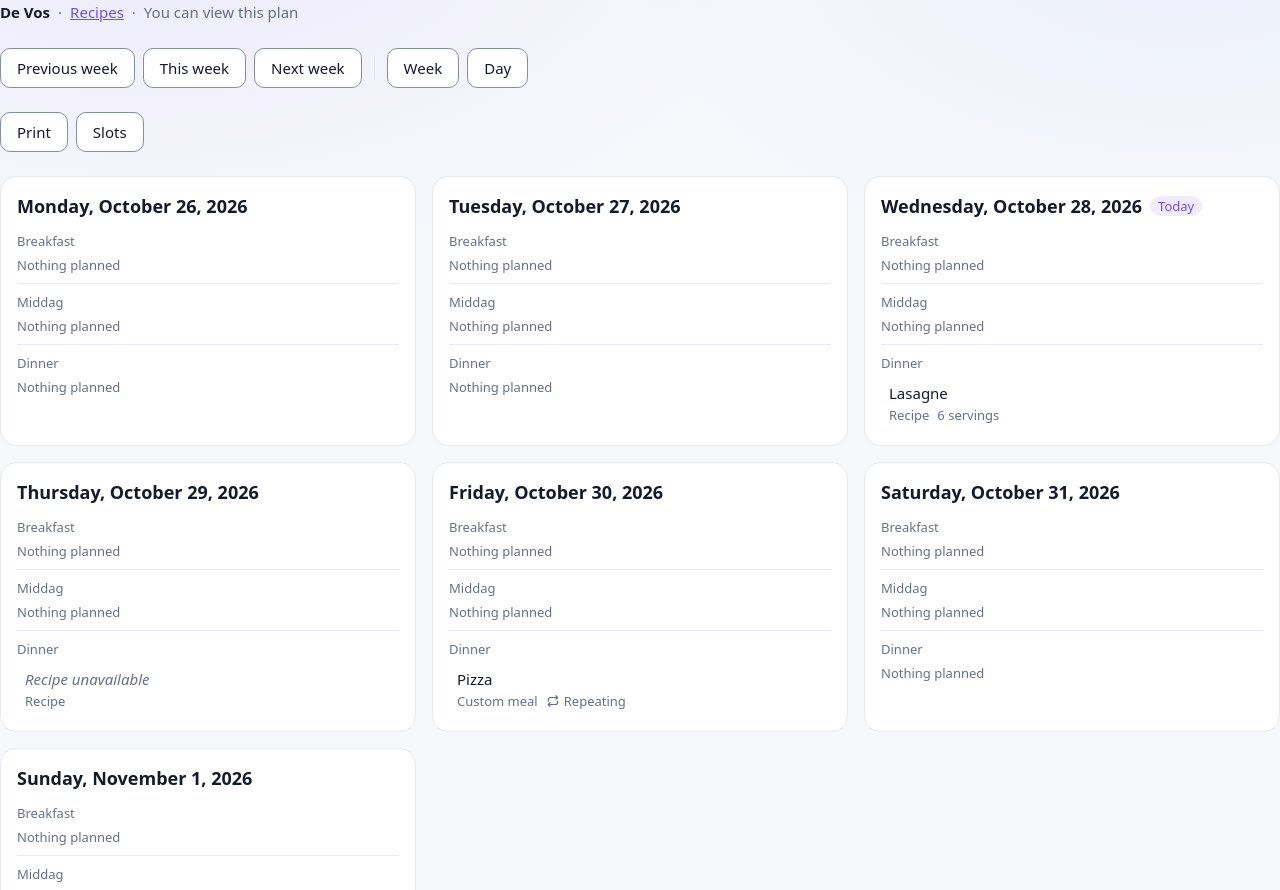
it: MealPlanner › shows a view-only plan without changes, and a hidden recipe without details
Expected: the text "You can view this plan" is shown, [144,0,298,24]
Click the button "Recipe unavailable Recipe" at (87, 679), box [17,663,399,715]
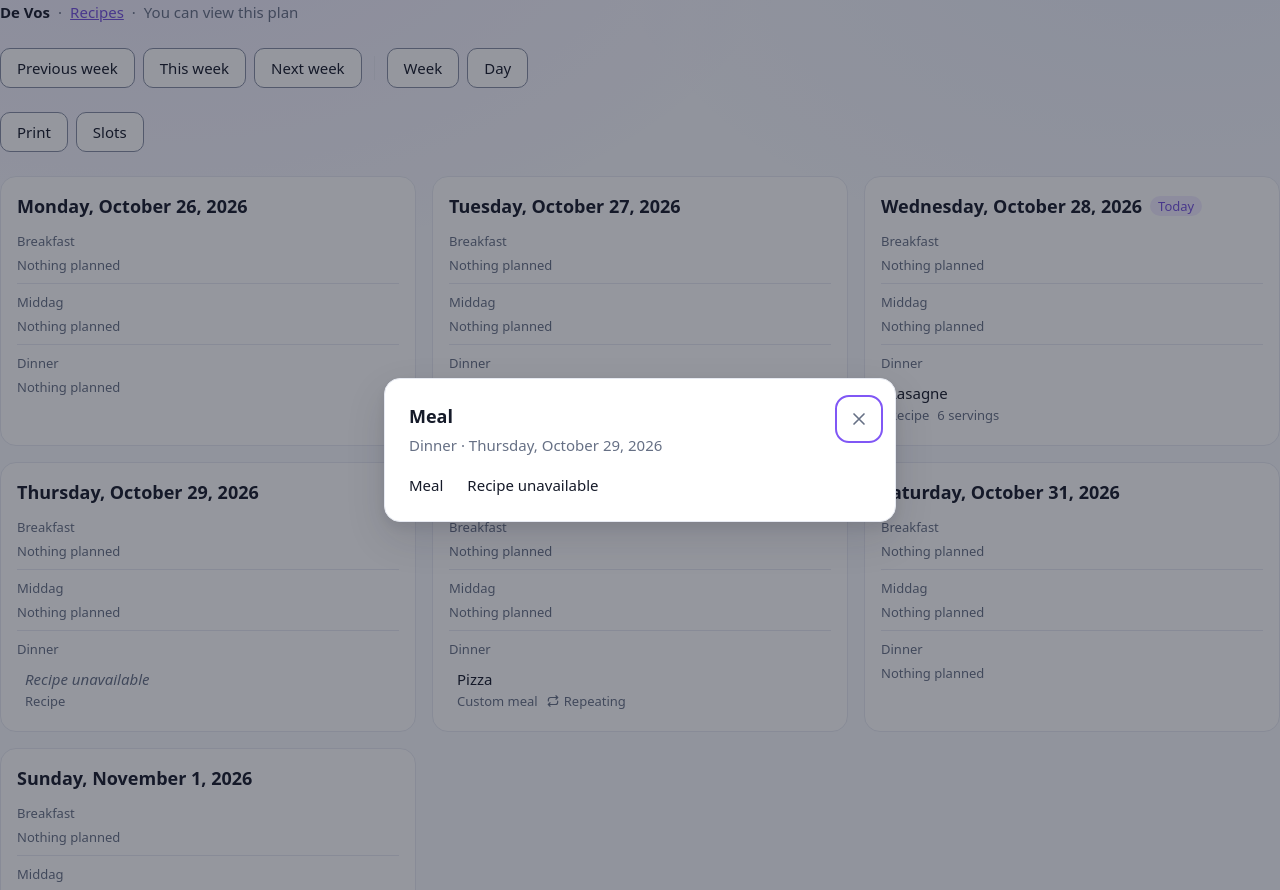
Now the text "Recipe unavailable" is shown, box [467,475,599,495]
